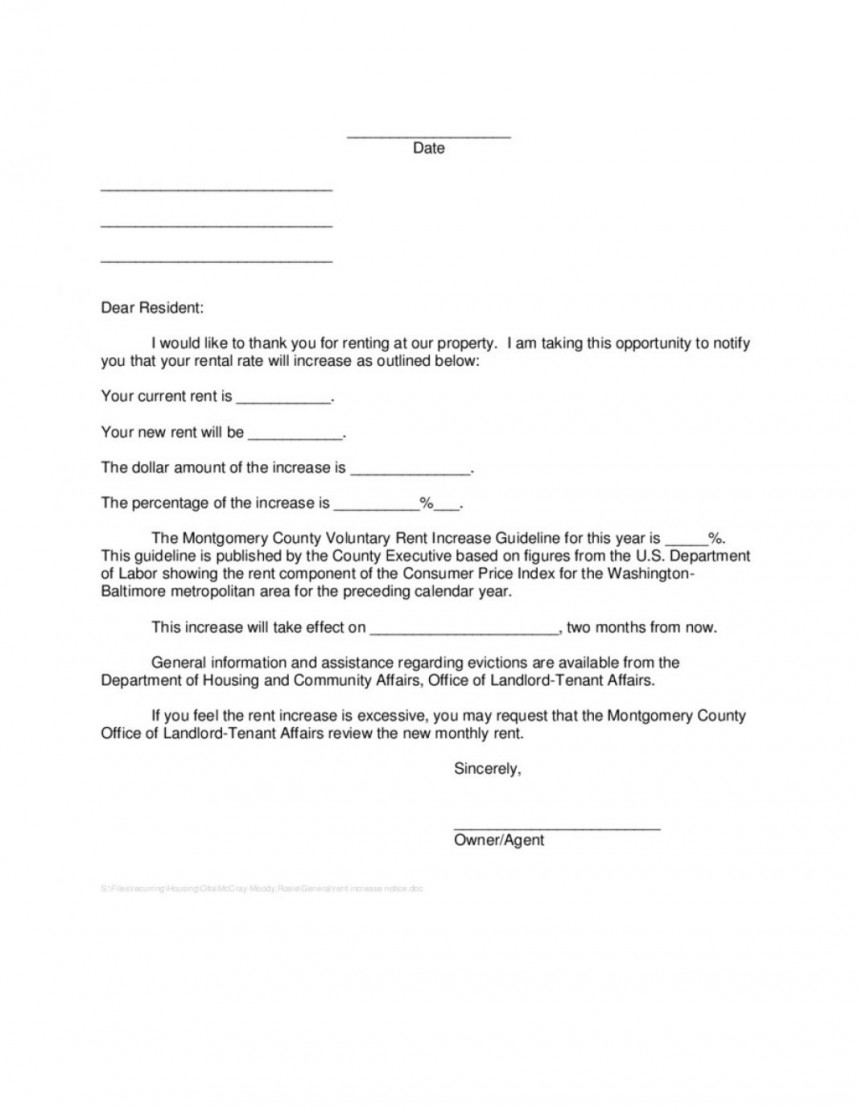textline: (451, 787, 666, 839), (93, 162, 336, 197), (338, 101, 517, 148), (367, 603, 563, 645), (90, 238, 336, 271), (94, 202, 338, 234), (351, 446, 475, 484), (241, 415, 356, 451), (338, 481, 420, 518), (238, 379, 335, 410), (666, 520, 711, 551), (433, 487, 469, 518)
